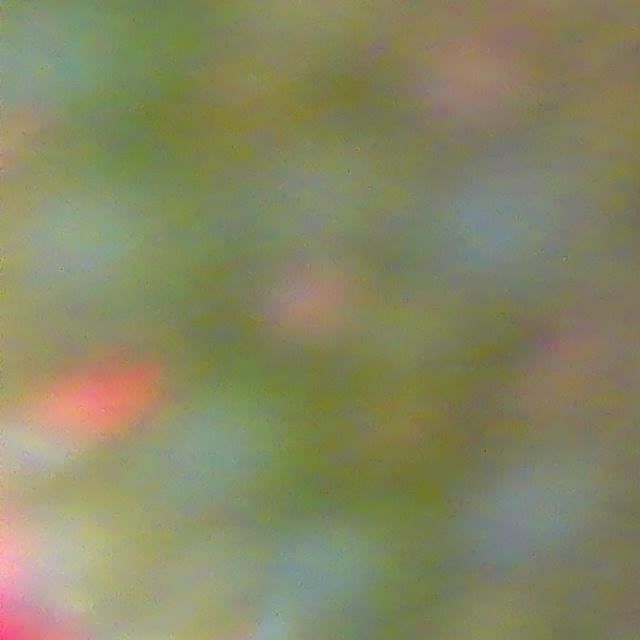SeaGrape: (17, 135, 226, 363), (139, 347, 364, 521), (1, 0, 199, 161), (295, 508, 439, 640)
